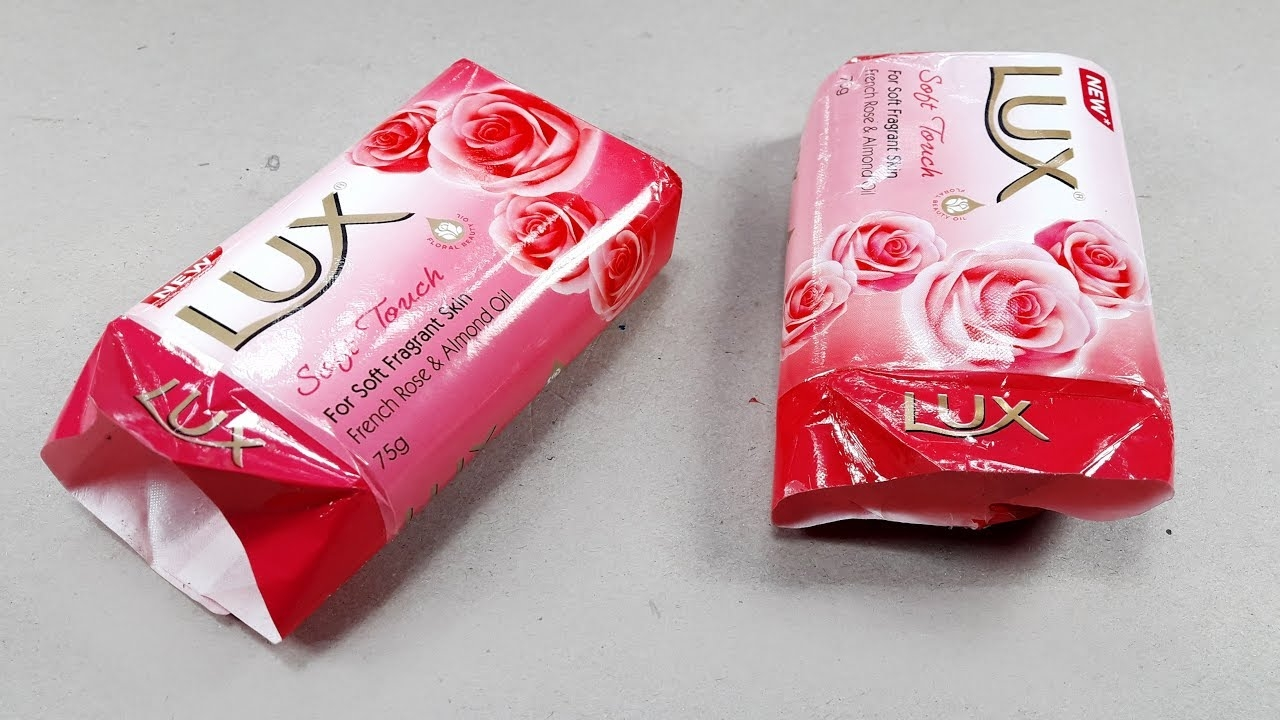paper: (33, 37, 695, 665), (761, 37, 1196, 589)
